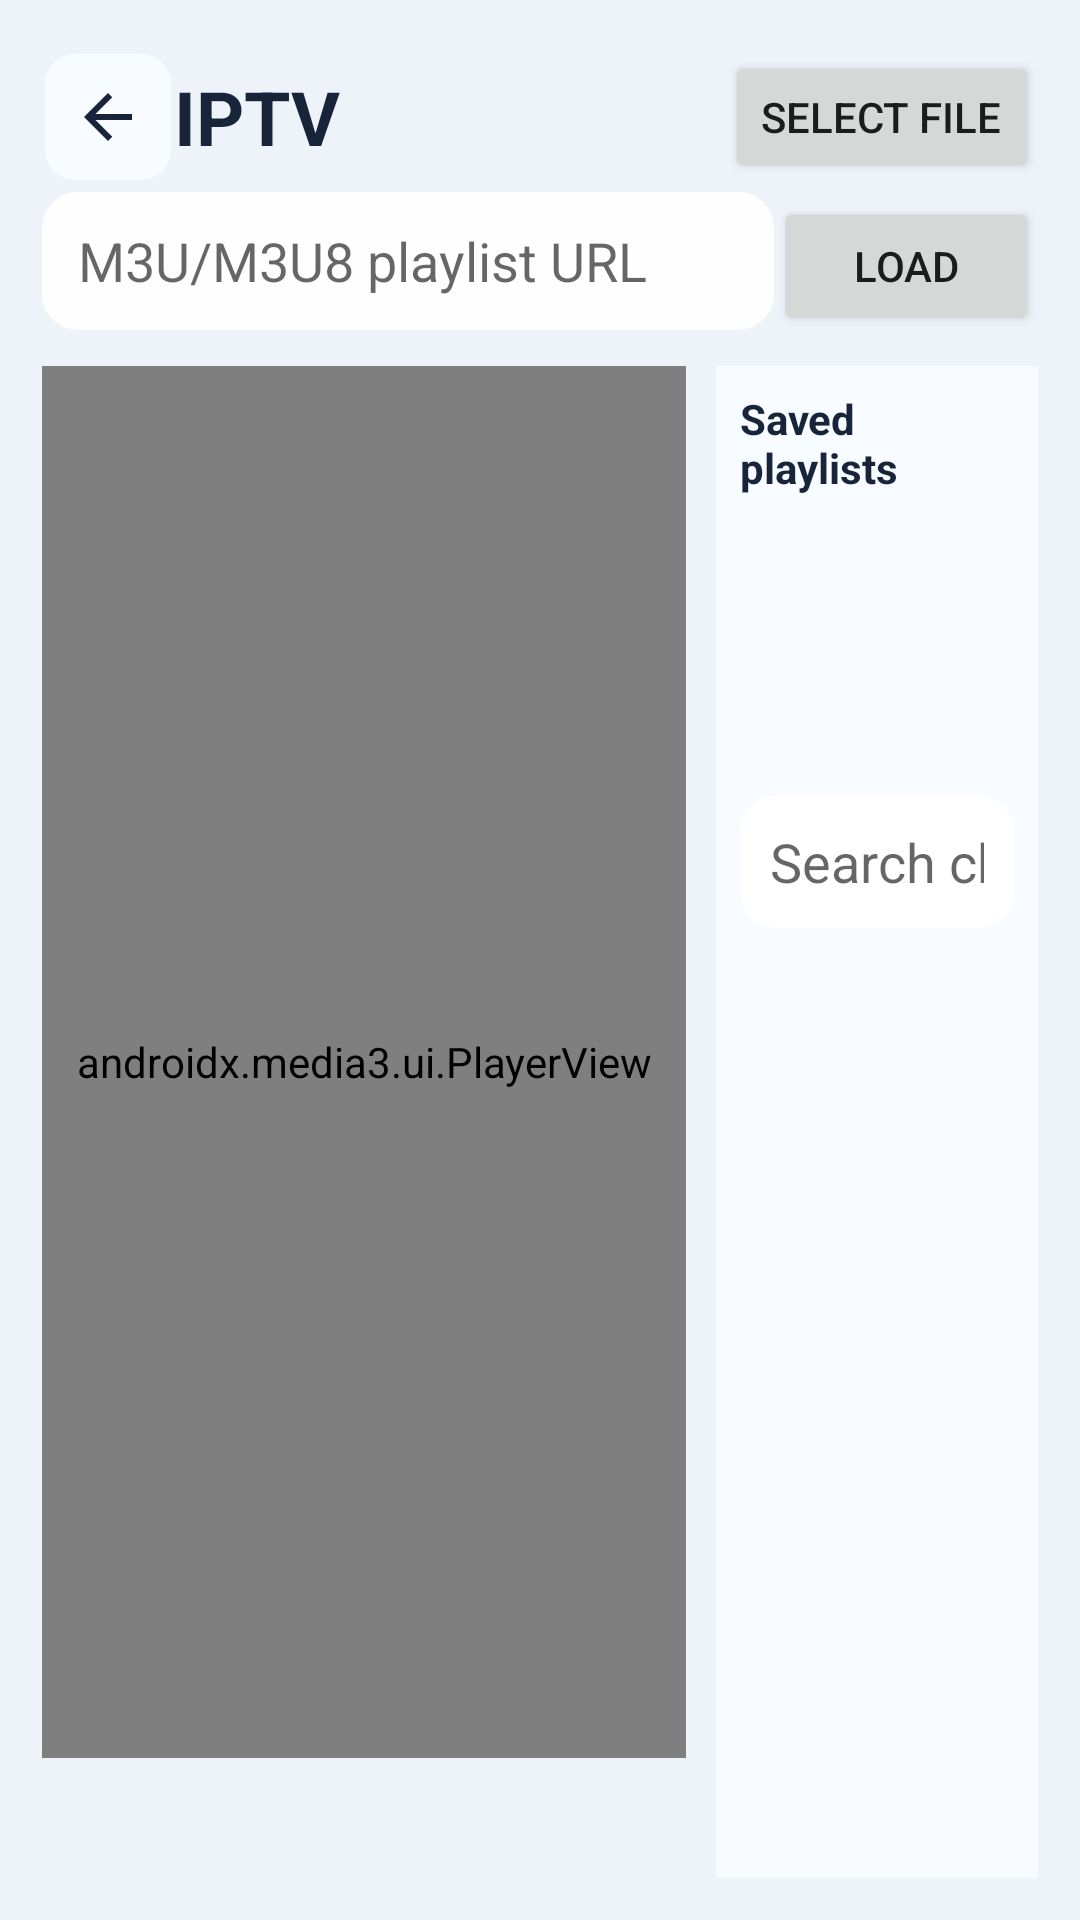

Screen size 1080x1920. Icon name, then its box in pixels as (x1, y1, x2, y2):
Back: (45, 54, 171, 180)
